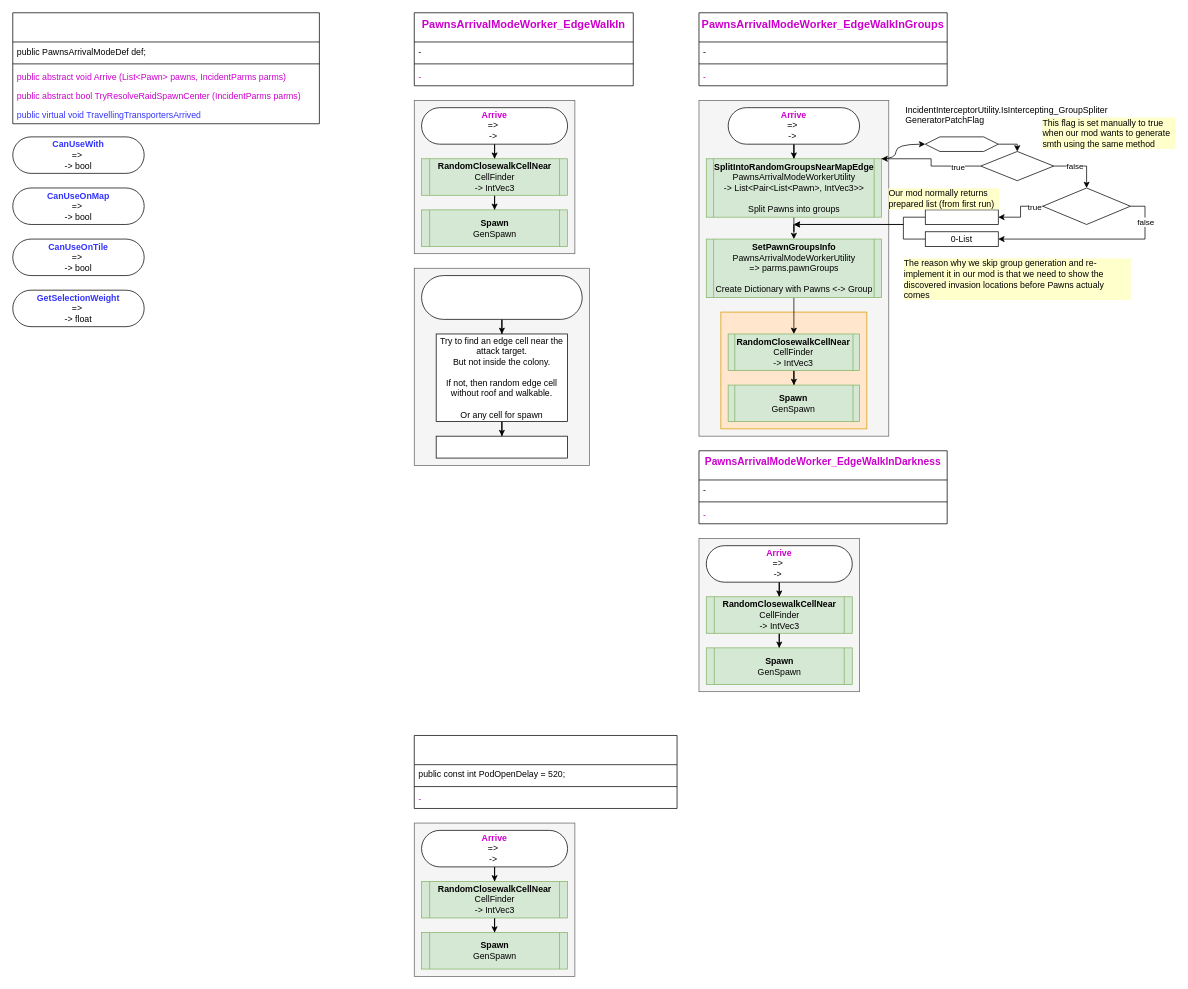
Some shapes in this 1188 by 989 pixel diagram are drawn without their labels. Each missing label, with the box of its shape:
For each group: (720, 311, 867, 429)
Generate: (980, 151, 1054, 181)
PawnsArrivalModeWorker: (12, 12, 319, 124)
PawnsArrivalModeWorker_SpecificLocationDrop: (414, 735, 677, 808)
Prefix: (925, 136, 998, 151)
ReturnTempList: (1042, 187, 1130, 224)
Set a rotation from this spawn towards map's center: (435, 435, 568, 458)
tempGroupList: (925, 209, 998, 224)
TryResolveRaidSpawnCenter => parms. spawnCenter => parms. spawnRotation -> bool: (421, 275, 582, 319)
